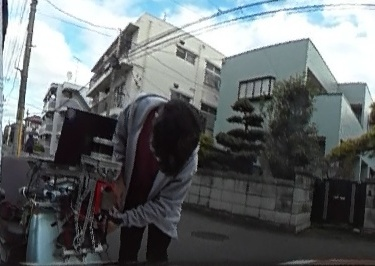person: (112, 92, 200, 266), (24, 130, 34, 154)
